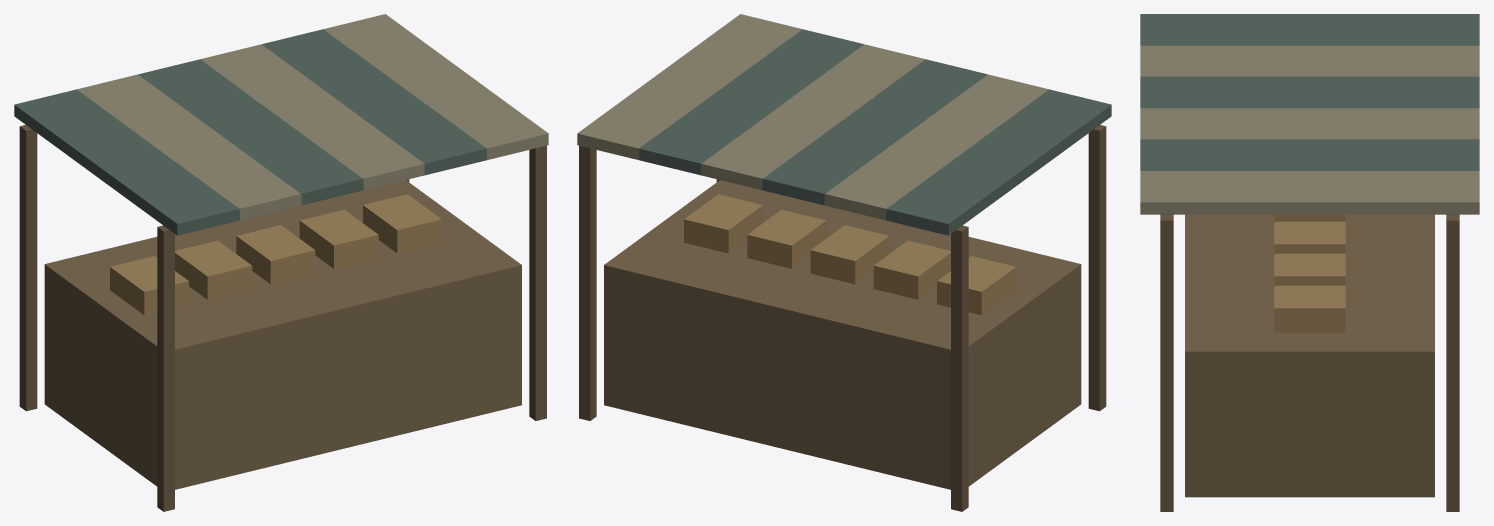
Rendered from market.glb.
The picture shows the model from 3 angles, left to right: view 1: azimuth 30°, elevation 25°; view 2: azimuth 150°, elevation 25°; view 3: azimuth 270°, elevation 25°; orthographic projection. The views are drawn at different scales.
Parts seen in each view (by area): view 1: market; view 2: market; view 3: market.
Boxes of the visible parts, left/top/right/bottom form: market: left=14, top=14, right=548, bottom=511; market: left=577, top=14, right=1111, bottom=511; market: left=1140, top=14, right=1479, bottom=511.
Bounding box in the file's own units: 5.15 × 3.78 × 3.8.
